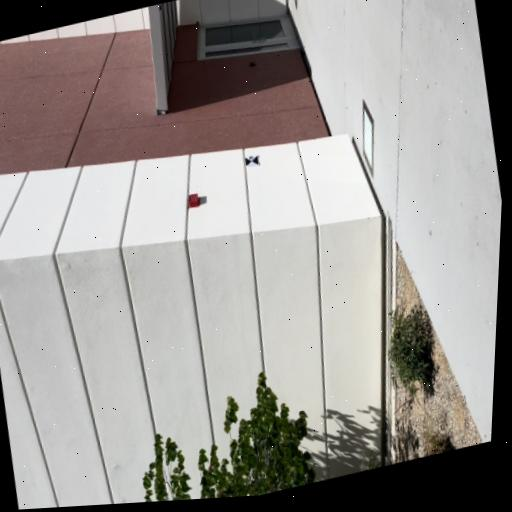target9: (245, 154, 259, 165)
